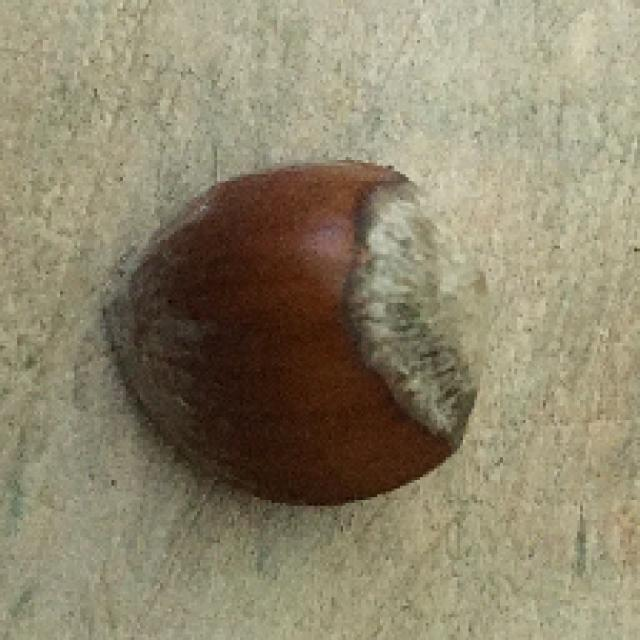damagedHazelnut: (108, 156, 489, 518)
